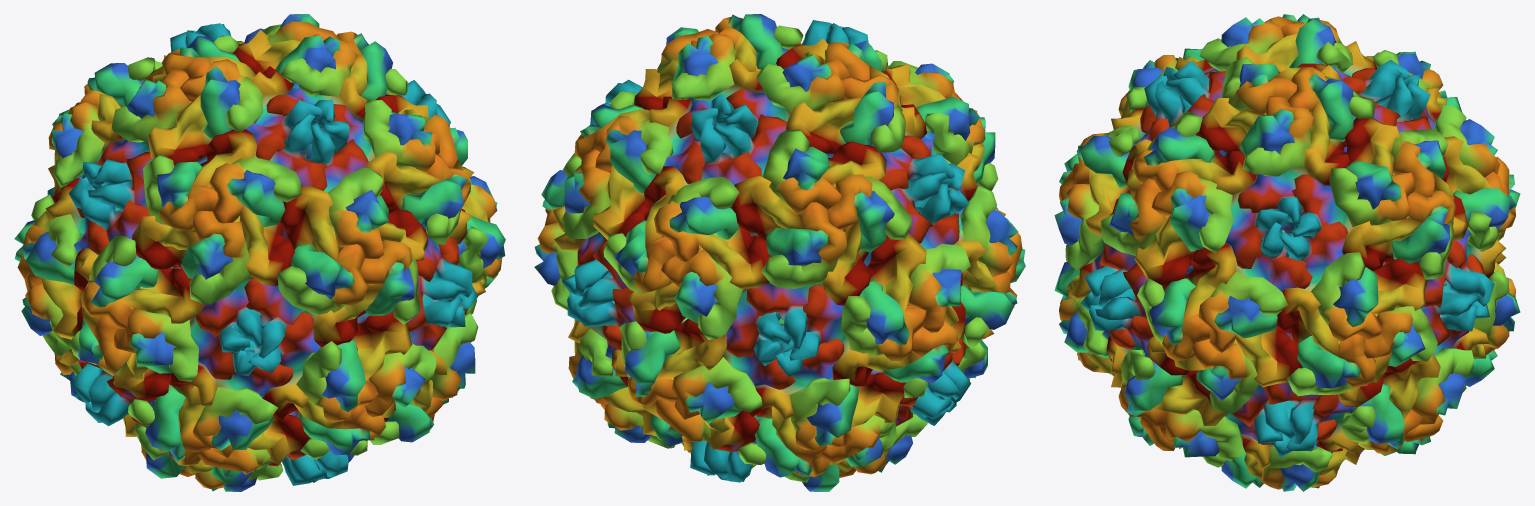
Rendered from 2CAS.glb.
3 renders of one model, left to right at view 1: azimuth 30°, elevation 25°; view 2: azimuth 150°, elevation 25°; view 3: azimuth 270°, elevation 25°, orthographic. The views are drawn at different scales.
Bounding box in the file's own units: 272 × 272 × 272.
